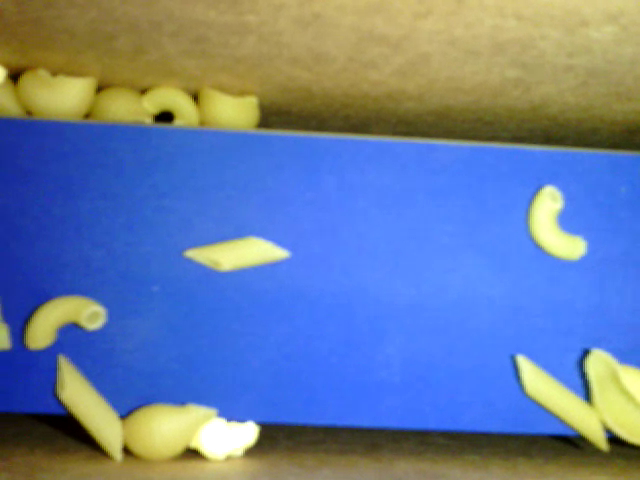elbow: (529, 181, 589, 263), (25, 294, 107, 349), (142, 82, 199, 124)
penne: (513, 350, 608, 455), (55, 353, 123, 459), (183, 234, 293, 273), (194, 84, 259, 130)
shell: (118, 401, 219, 462), (582, 346, 639, 447), (13, 66, 99, 120), (89, 84, 155, 125)
